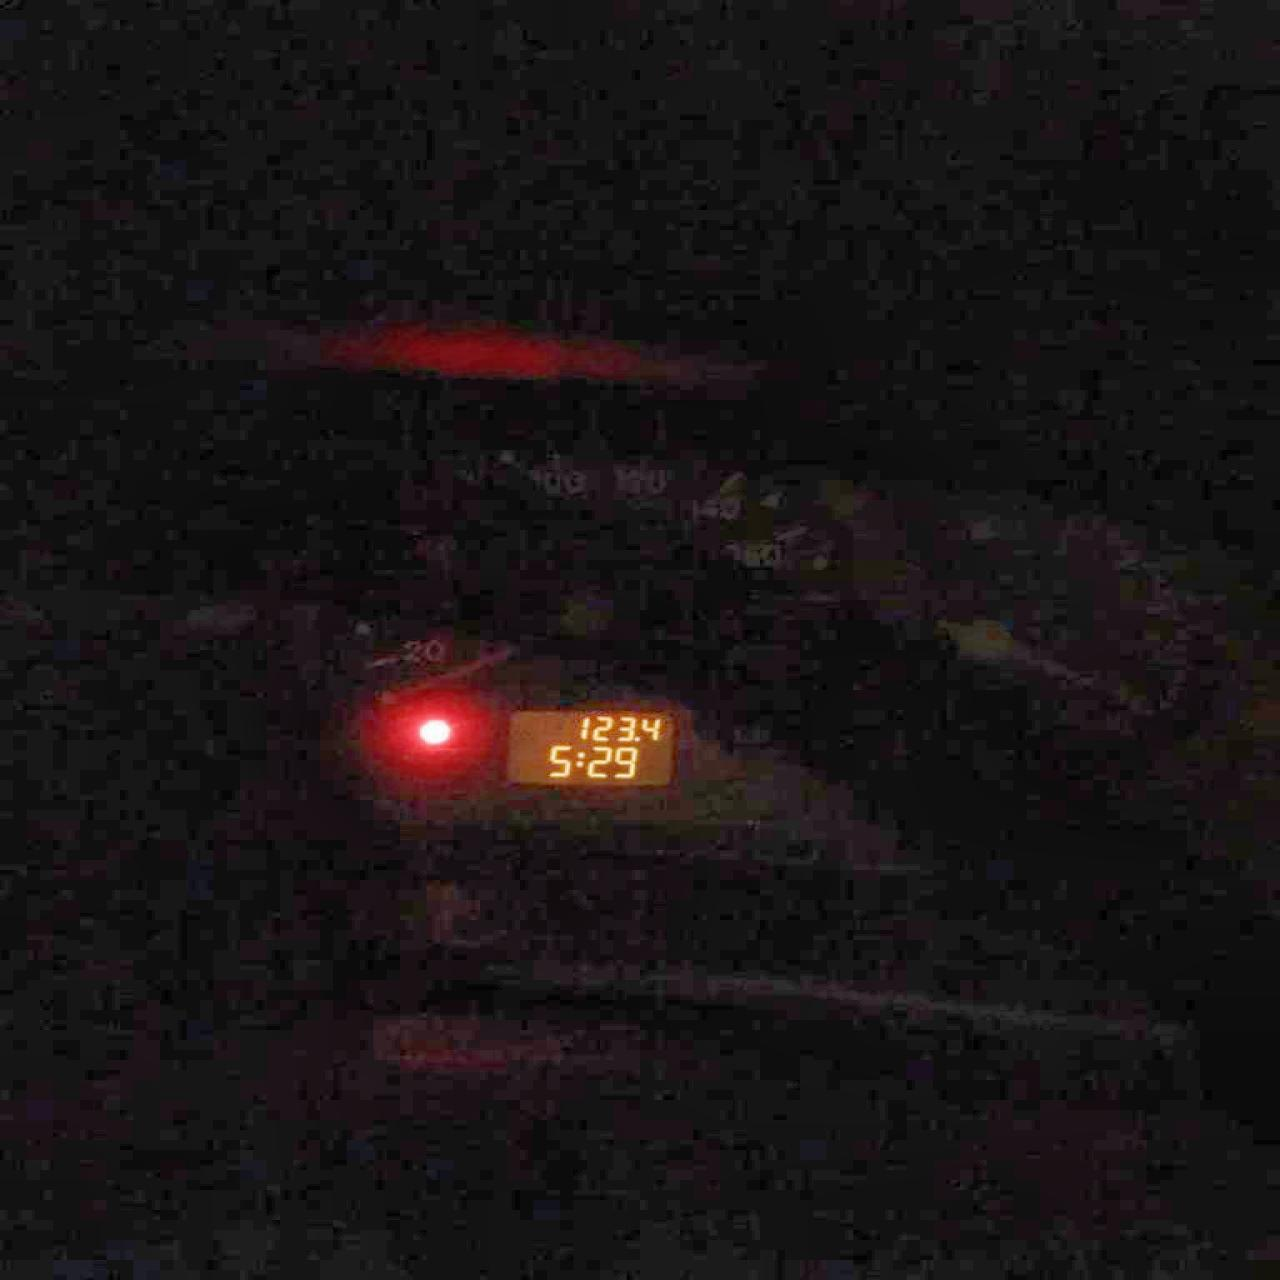-: (633, 735, 640, 741)
1: (579, 716, 588, 738)
2: (585, 744, 612, 777), (591, 715, 612, 740)
3: (614, 716, 633, 740)
4: (640, 717, 660, 741)
5: (546, 745, 572, 776)
9: (612, 744, 636, 777)
X: (573, 750, 584, 765)
odometer: (499, 706, 679, 785)
